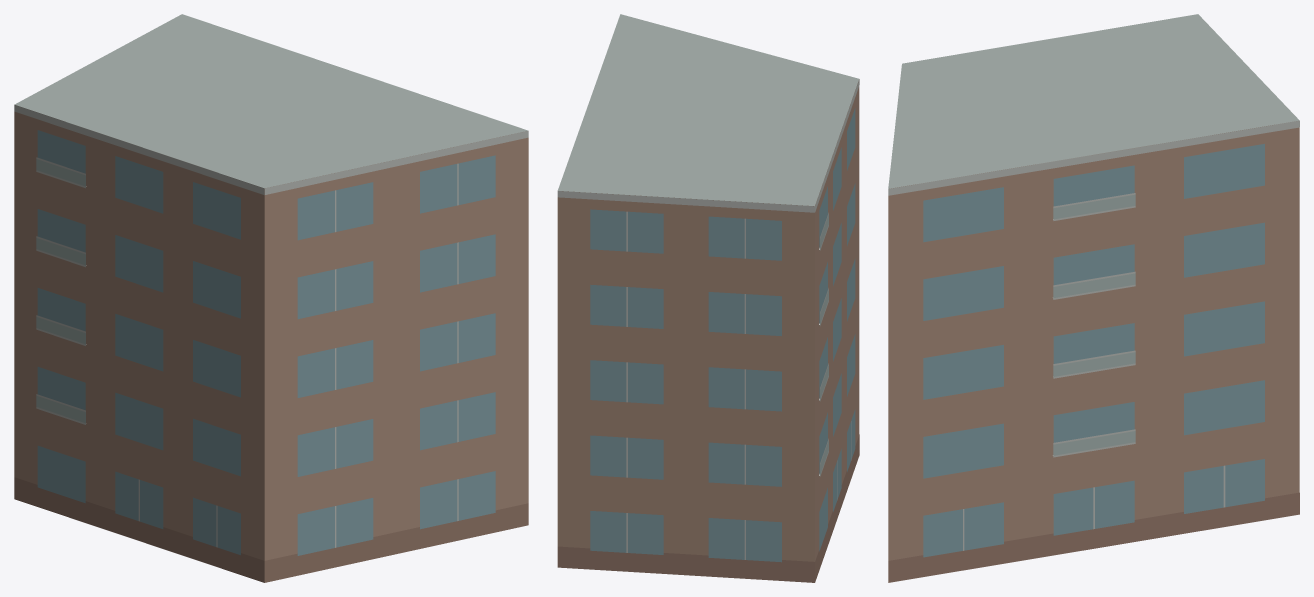
File: survey-upis-32713535.glb
The picture shows the model from 3 angles, left to right: view 1: azimuth 30°, elevation 25°; view 2: azimuth 150°, elevation 25°; view 3: azimuth 270°, elevation 25°; orthographic projection. The views are drawn at different scales.
Visible parts, largest first — view 1: survey-upis-32713535.tmp; view 2: survey-upis-32713535.tmp; view 3: survey-upis-32713535.tmp.
Part boxes in pixels (left/top/right/bottom): survey-upis-32713535.tmp: left=14, top=14, right=528, bottom=582; survey-upis-32713535.tmp: left=557, top=14, right=859, bottom=582; survey-upis-32713535.tmp: left=888, top=14, right=1299, bottom=582.
Bounding box in the file's own units: 13.25 × 13.9 × 13.17.
